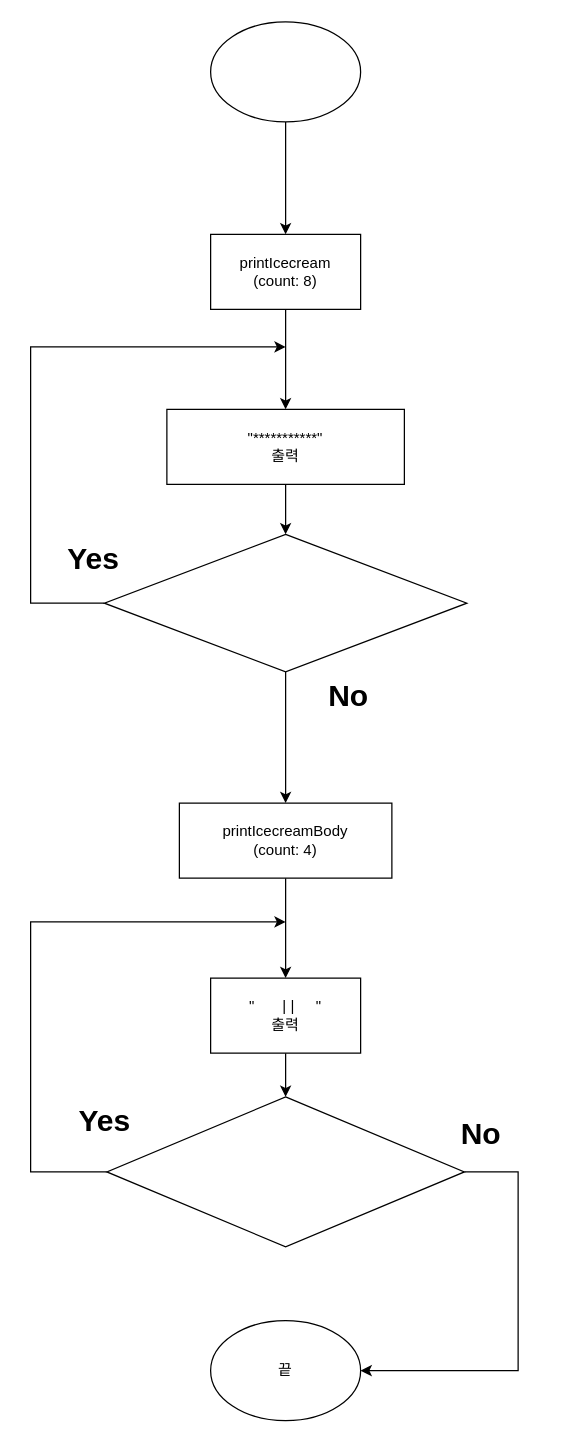
Image size: 565x1443. Some labels were removed from this diagram. Here are the shapes that lost their labels. From the top down, the box of each, then its label:
(209, 21, 361, 122): 시작
(103, 533, 467, 672): i 의 값이 count(8)보다 작은가?
(106, 1096, 464, 1247): i 의 값이 4보다 작은가?
